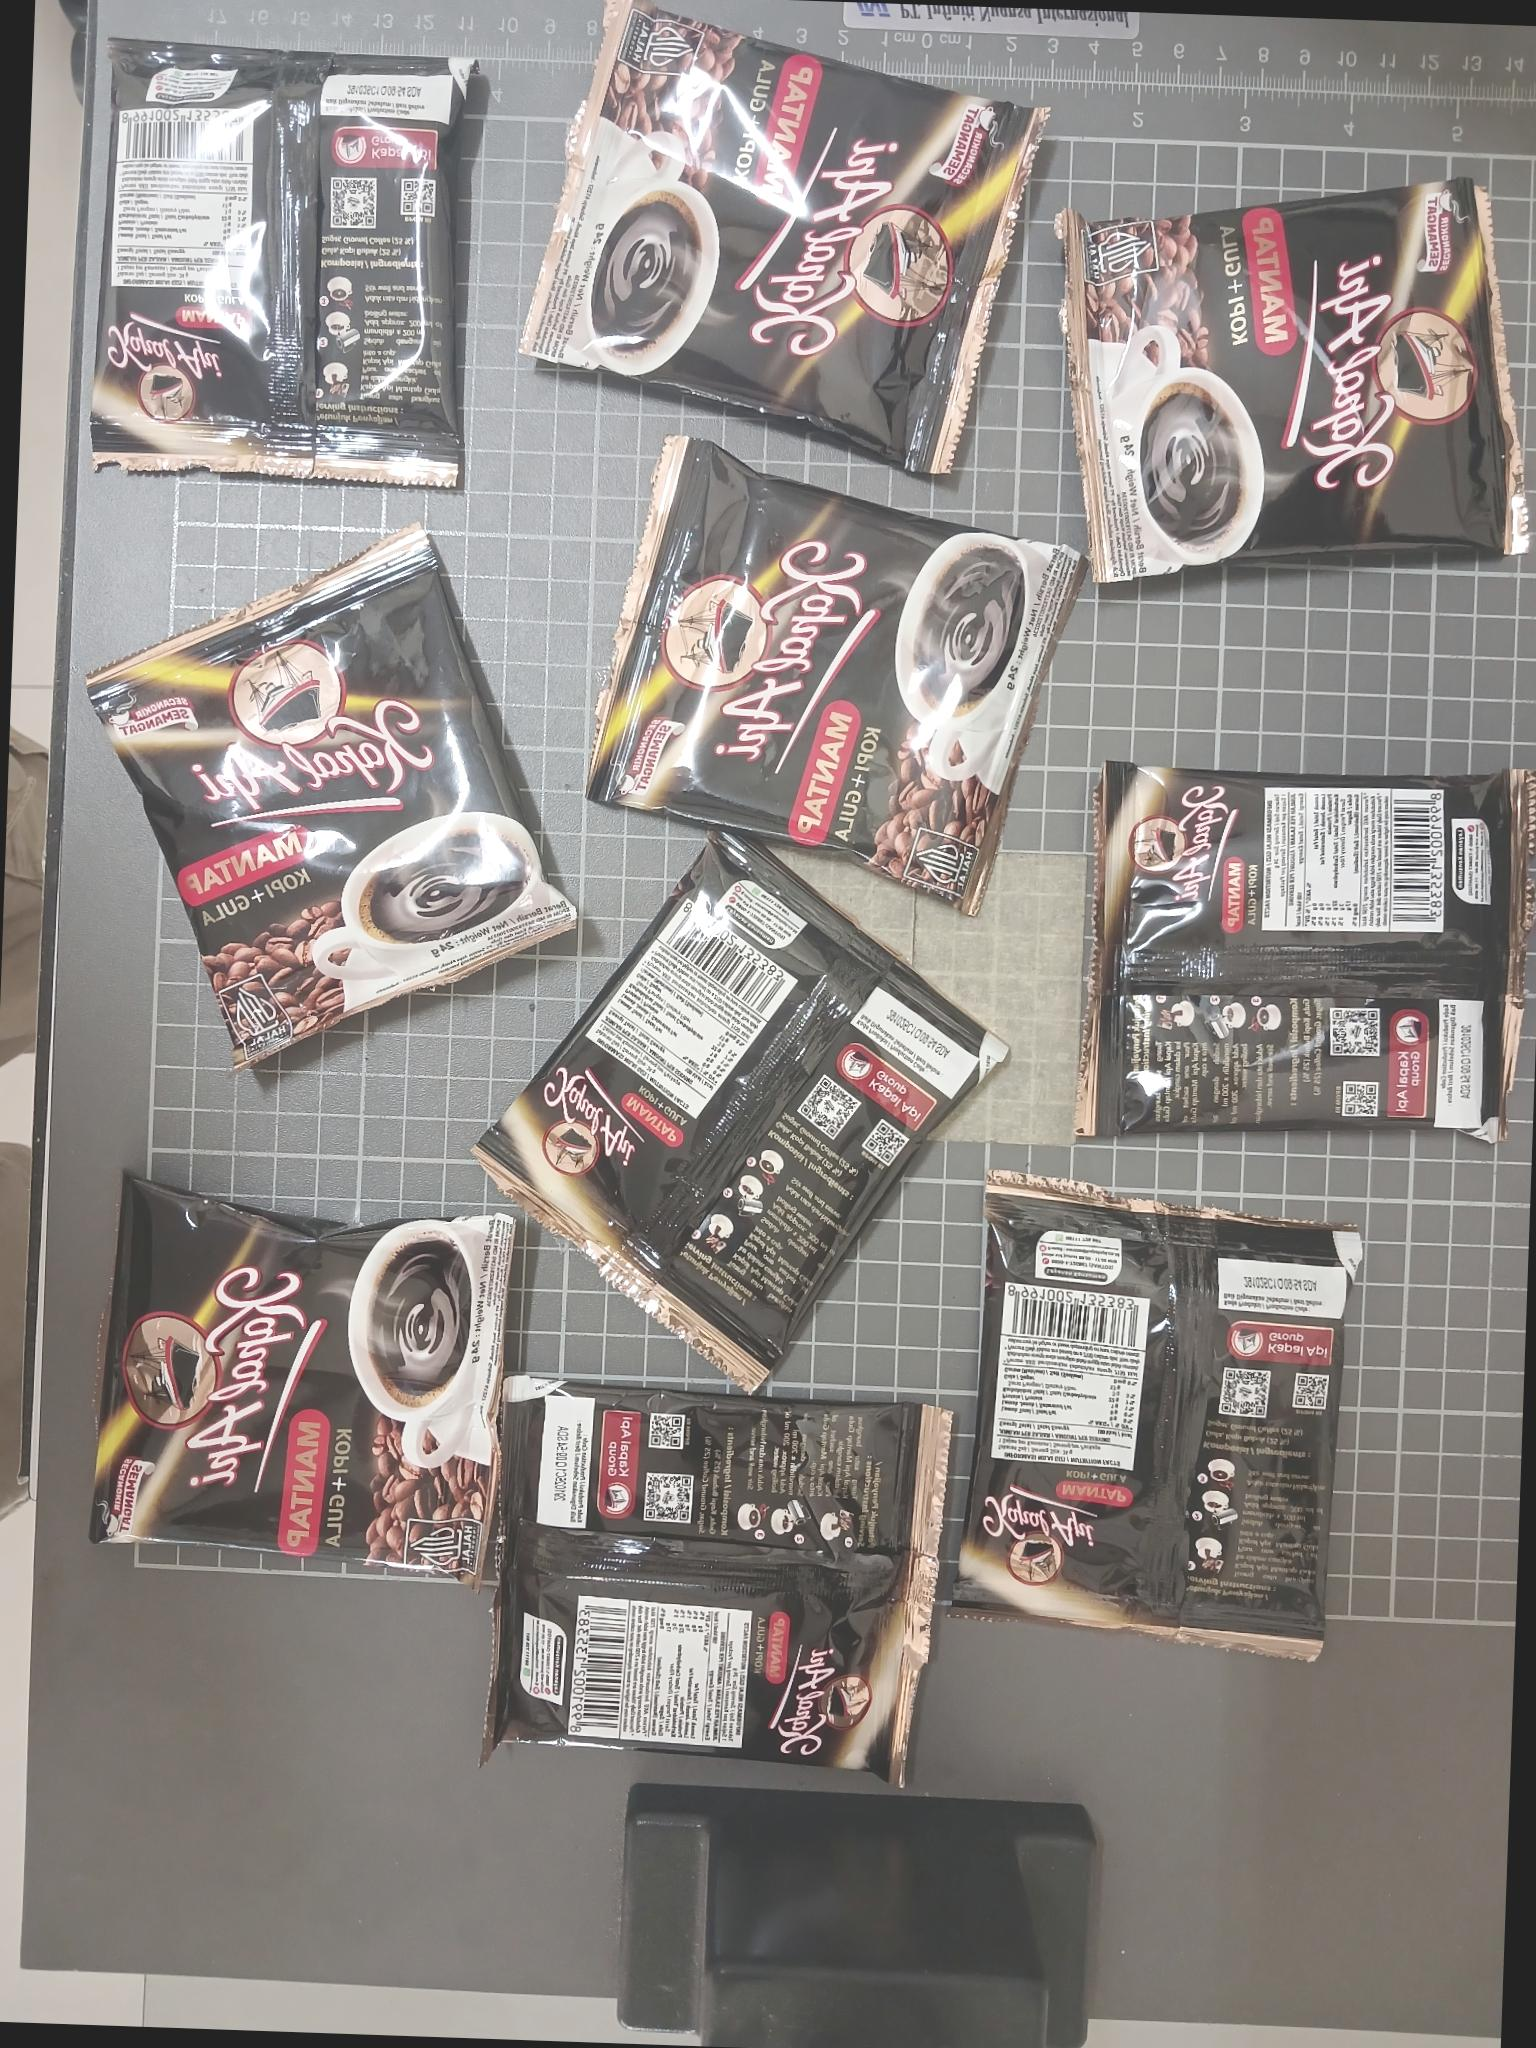back: (470, 821, 1010, 1392), (942, 1171, 1363, 1664), (481, 1372, 957, 1784), (1073, 761, 1536, 1145), (87, 35, 476, 490)
front: (77, 522, 579, 1077), (515, 0, 1049, 482), (579, 429, 1079, 913), (1058, 177, 1531, 589), (84, 1168, 513, 1590)
